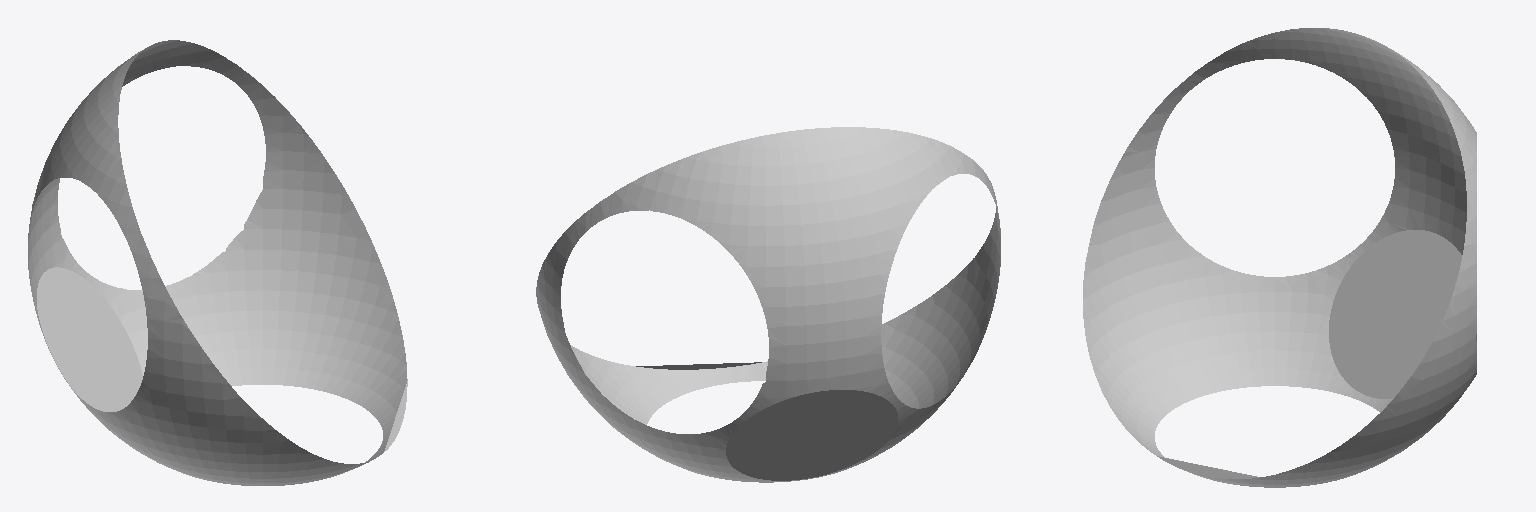
File: hemisphere_100.obj
3 renders of one model, left to right at view 1: azimuth 30°, elevation 25°; view 2: azimuth 150°, elevation 25°; view 3: azimuth 270°, elevation 25°, orthographic.
Parts seen in each view (by area): view 1: <STL_BINARY>; view 2: <STL_BINARY>; view 3: <STL_BINARY>.
Part boxes in pixels (left/top/right/bottom): <STL_BINARY>: left=28, top=40, right=407, bottom=485; <STL_BINARY>: left=536, top=127, right=1000, bottom=482; <STL_BINARY>: left=1083, top=28, right=1476, bottom=487.
Bounding box in the file's own units: 0.9931 × 0.9931 × 0.9931.